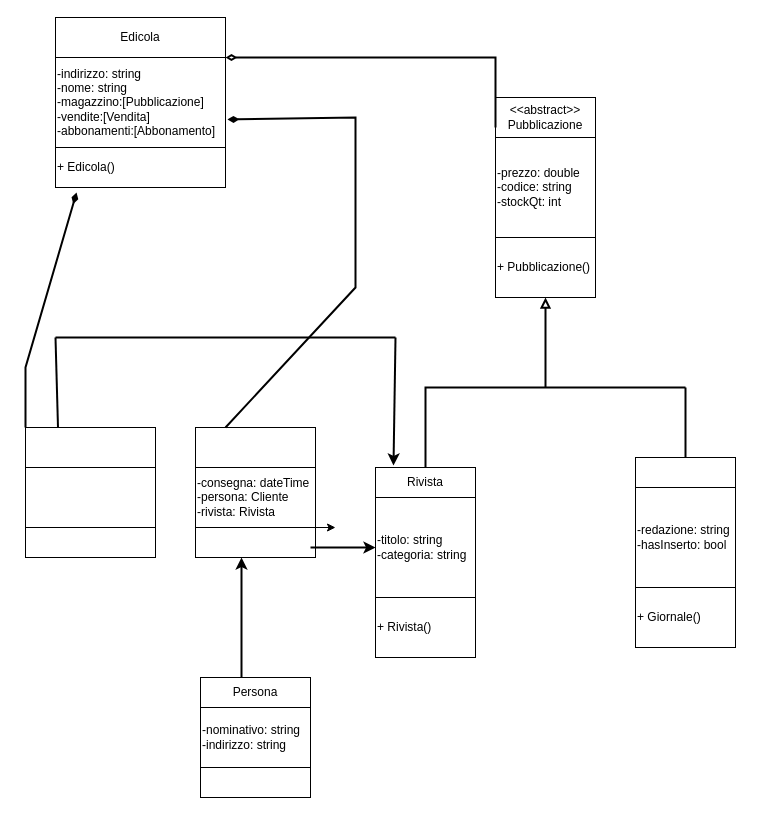
This 761x815 diagram has some shape labels left out. Each missing label, with the centre of its shape:
"+ Abbonamento()" goes at (x=255, y=542).
"+ Persona()" goes at (x=255, y=782).
"+ Vendita()" goes at (x=90, y=542).
"-dataVendita: dateTime -qt: int -rivista: Rivista -tipoPagamento : string" goes at (x=90, y=497).
"Abbonamento" goes at (x=255, y=447).
"Giornale" goes at (x=685, y=472).
"Vendita" goes at (x=90, y=447).
